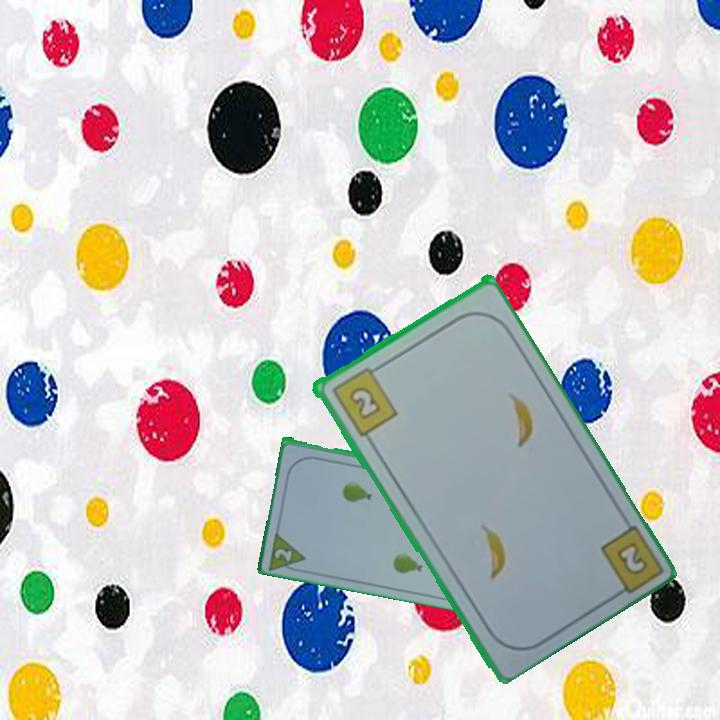2b: (327, 361, 400, 439), (612, 538, 650, 578)
2p: (271, 544, 295, 564)
